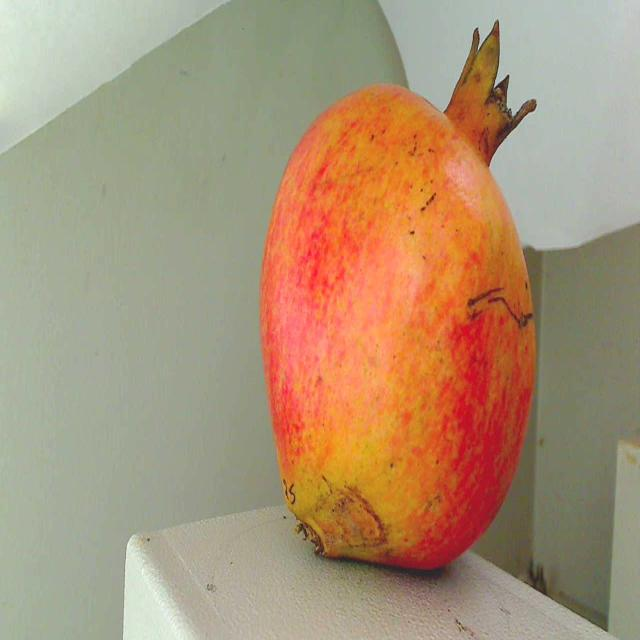pomegranate: (249, 0, 569, 587)
